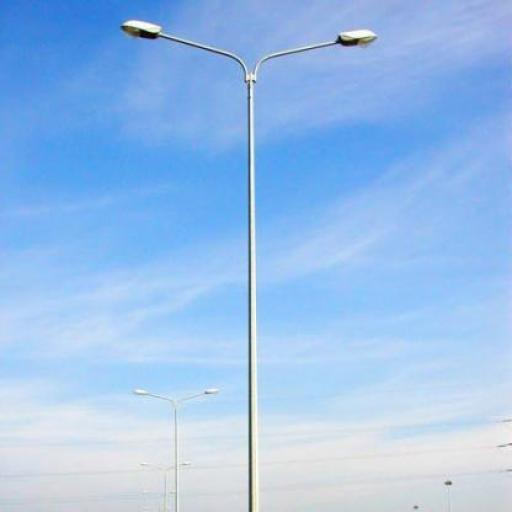street light: (120, 14, 378, 512), (132, 388, 218, 510), (139, 461, 194, 512), (143, 490, 181, 511)
